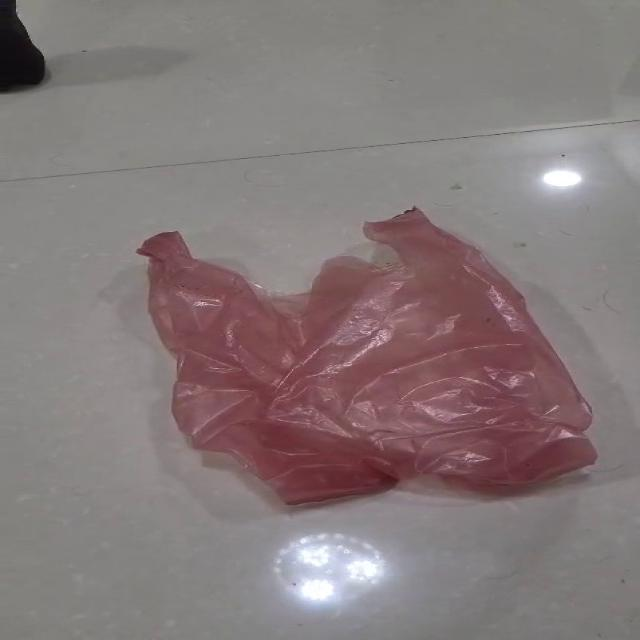plastic: (135, 205, 599, 506)
